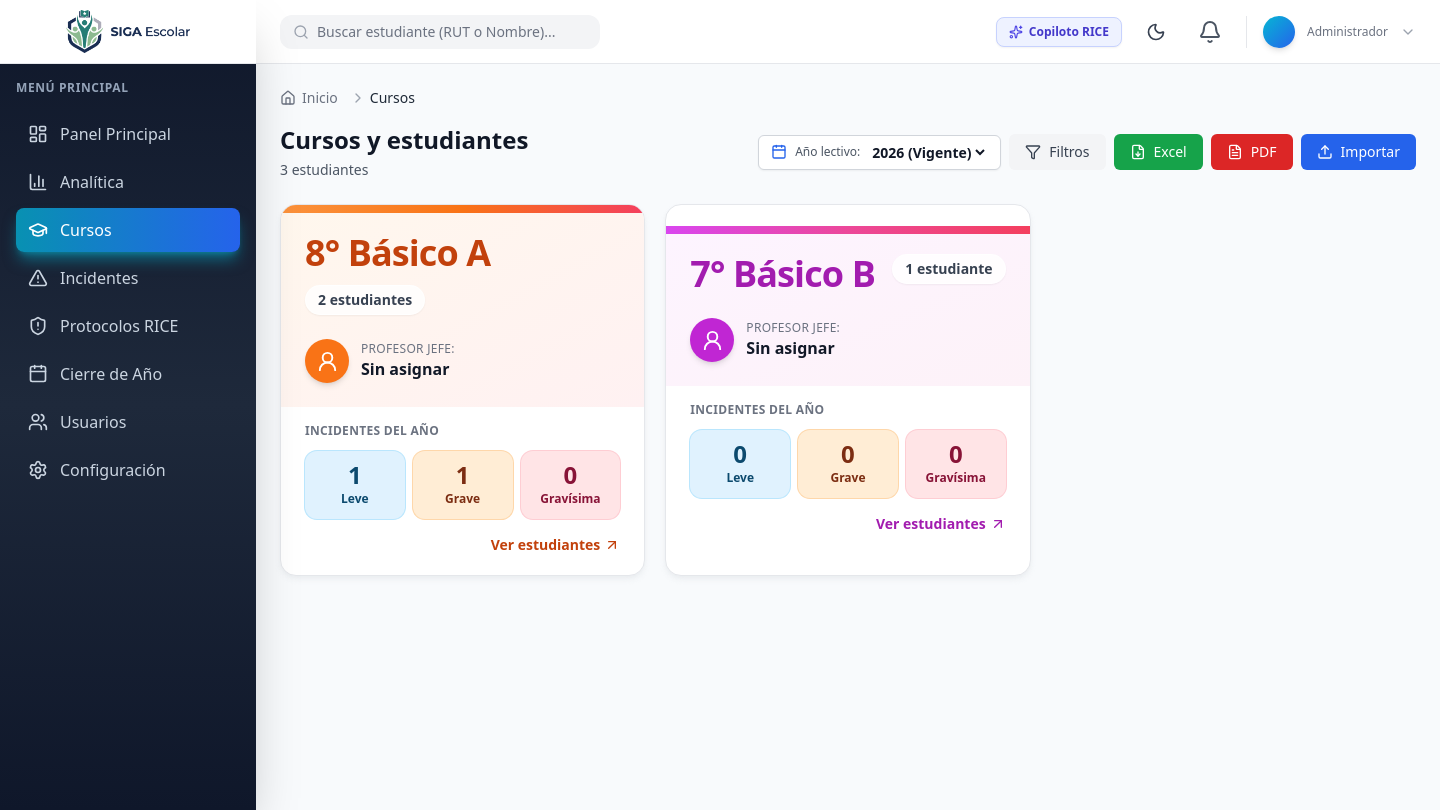
Scenario: Directorio por cursos › muestra el hero banner del curso con métricas de matriculados, PIE y permite alternar a vista tarjetas
// Abrir 8° Básico A
Click the button "8° Básico A".
click(463, 390)  # box [280,204,645,576]
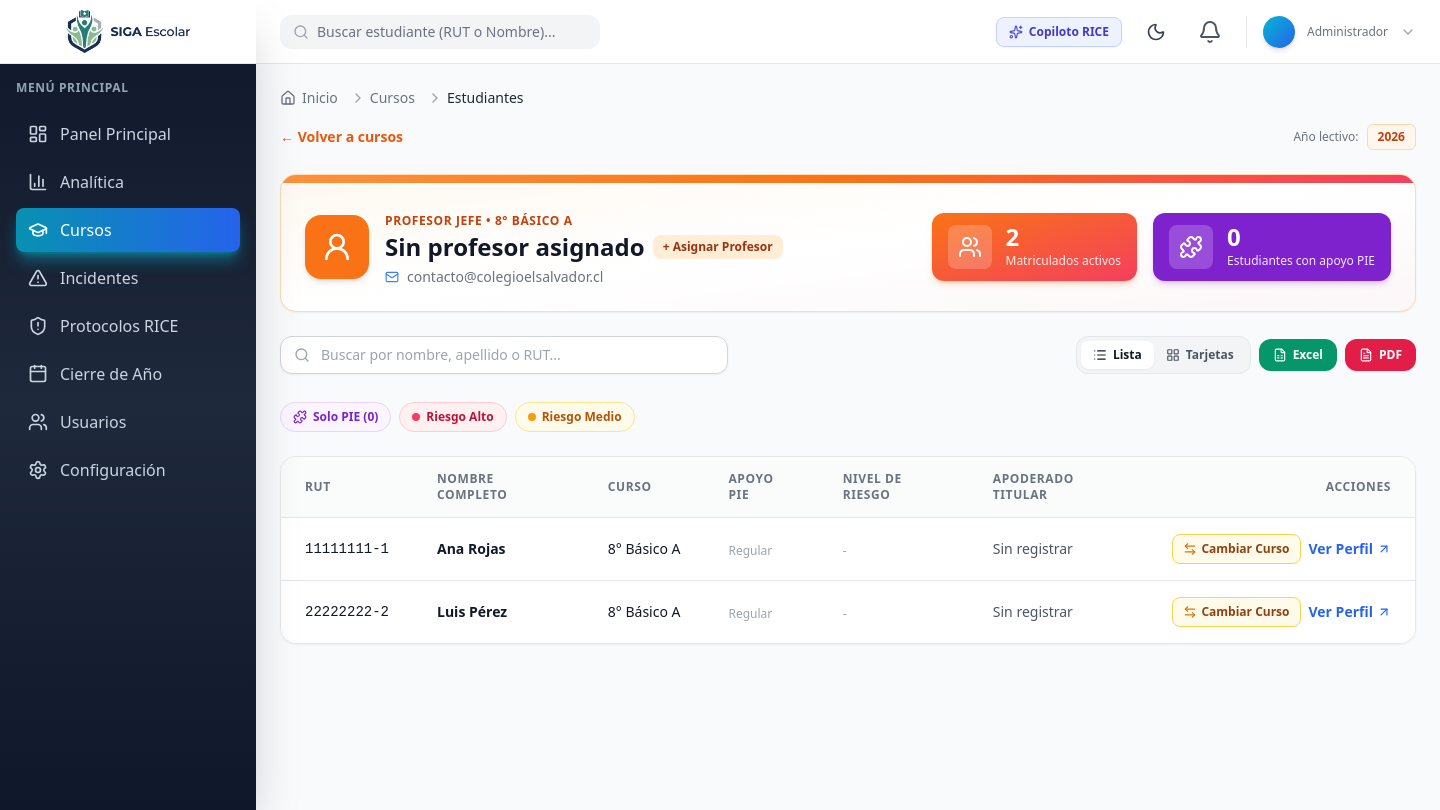
Expected: the text "Matriculados activos" is shown, [1006,253,1121,269]
Expected: the text "Estudiantes con apoyo PIE" is shown, [1227,253,1375,269]
Expected: the text "2" is shown, [1006,220,1019,253]
// Alternar a vista tarjetas
Click the button "Tarjetas".
click(1200, 355)  # box [1154,341,1246,369]
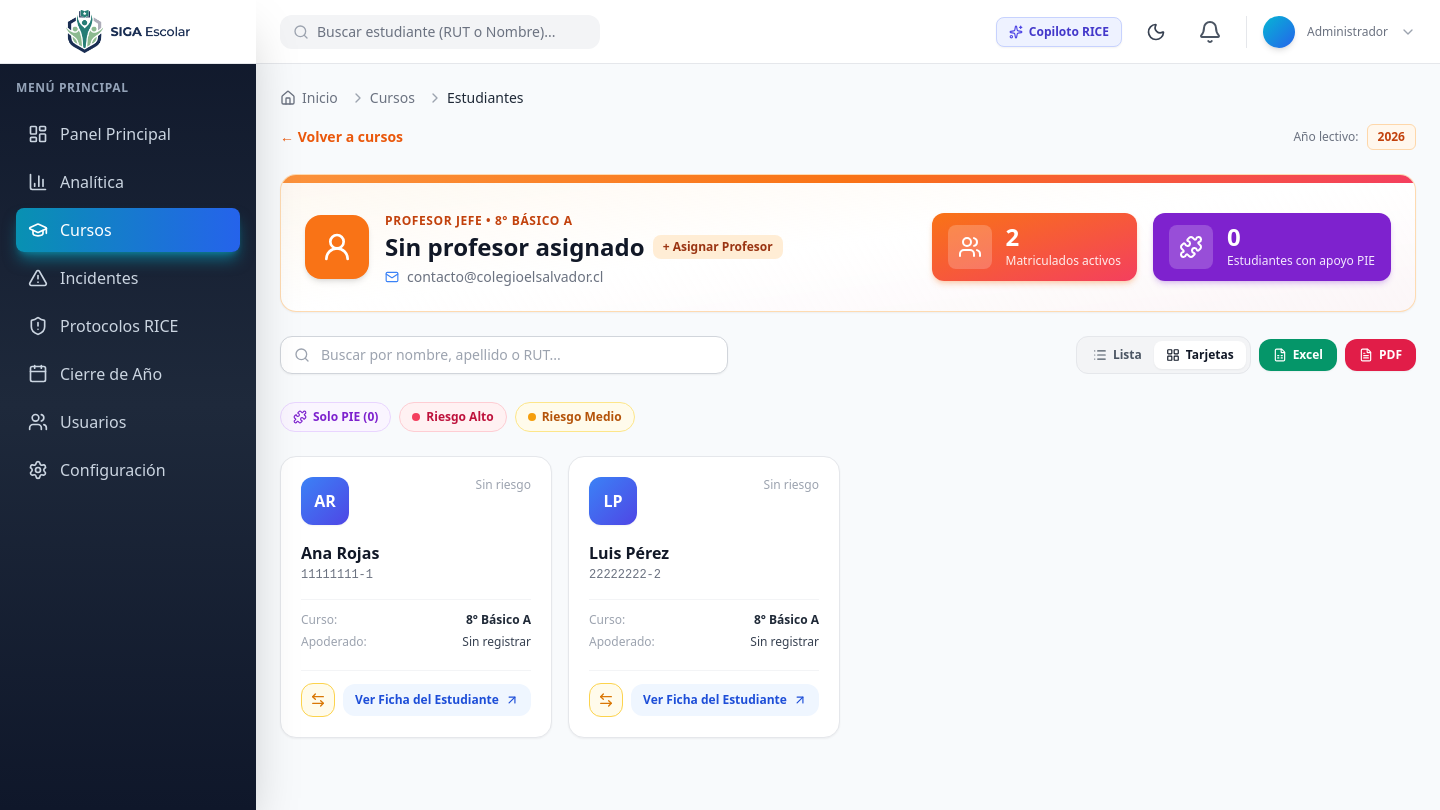
Expected: the text "Ver Ficha del Estudiante" is shown 2 times, [355,692,499,708]; [643,692,787,708]
